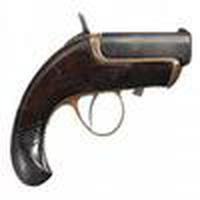gun: (18, 13, 181, 185)
